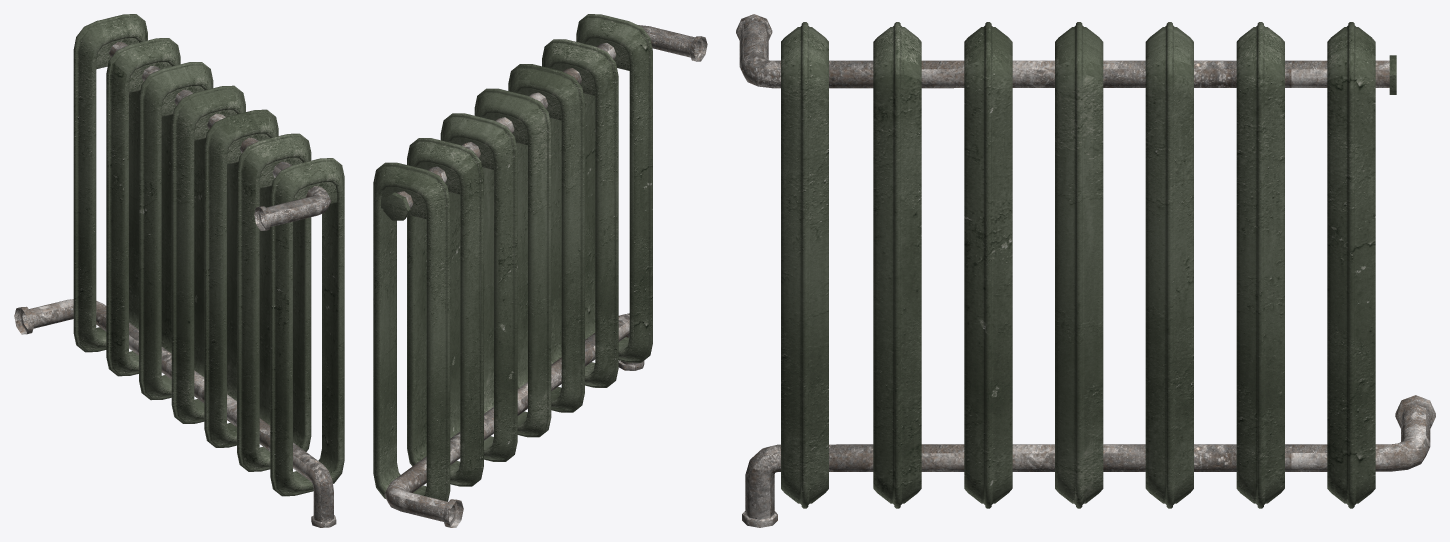
Rendered from Radiator_LOD1.FBX.
The picture shows the model from 3 angles, left to right: view 1: azimuth 30°, elevation 25°; view 2: azimuth 150°, elevation 25°; view 3: azimuth 270°, elevation 25°; orthographic projection. The views are drawn at different scales.
Visible parts, largest first — view 1: Radiator_Ra; view 2: Radiator_Ra; view 3: Radiator_Ra.
Part boxes in pixels (<box>): Radiator_Ra: <box>14,14,344,527</box>; Radiator_Ra: <box>373,14,707,527</box>; Radiator_Ra: <box>736,14,1435,527</box>.
Size of the model in its own units: 20.23 by 65.51 by 85.8.
